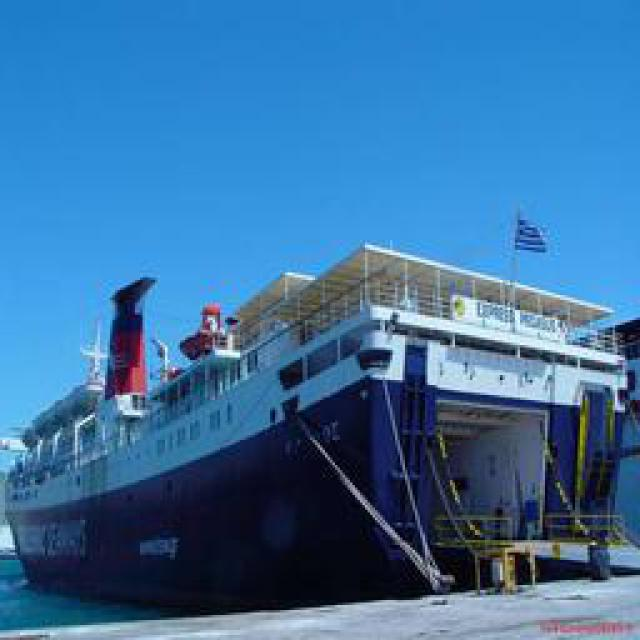Ship: (16, 241, 640, 617)
